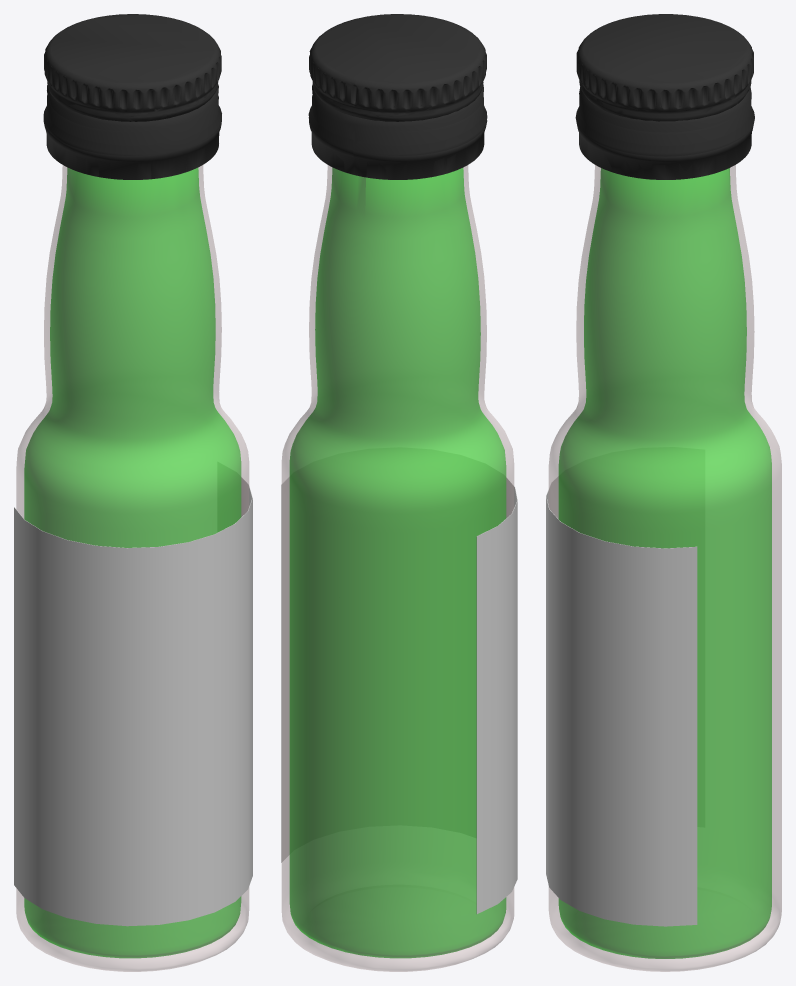
The model's file is bottle.glb.
3 renders of one model, left to right at view 1: azimuth 30°, elevation 25°; view 2: azimuth 150°, elevation 25°; view 3: azimuth 270°, elevation 25°, orthographic.
Visible parts, largest first — view 1: Bottle Top.002, Glass.003, Glass.001, Bottle Top.001; view 2: Glass.003, Glass.001, Bottle Top.001, Bottle Top.002; view 3: Glass.003, Glass.001, Bottle Top.002, Bottle Top.001.
Boxes of the visible parts, left/top/right/bottom form: Bottle Top.002: left=14, top=477, right=252, bottom=926; Glass.003: left=16, top=165, right=249, bottom=971; Glass.001: left=24, top=167, right=241, bottom=958; Bottle Top.001: left=43, top=14, right=221, bottom=179; Glass.003: left=281, top=165, right=514, bottom=971; Glass.001: left=289, top=167, right=506, bottom=958; Bottle Top.001: left=308, top=14, right=487, bottom=179; Bottle Top.002: left=281, top=476, right=517, bottom=913; Glass.003: left=548, top=165, right=781, bottom=971; Glass.001: left=558, top=168, right=771, bottom=958; Bottle Top.002: left=546, top=476, right=697, bottom=926; Bottle Top.001: left=575, top=14, right=754, bottom=179.
Bounding box in the file's own units: 0.4823 × 1.94 × 0.4727.
